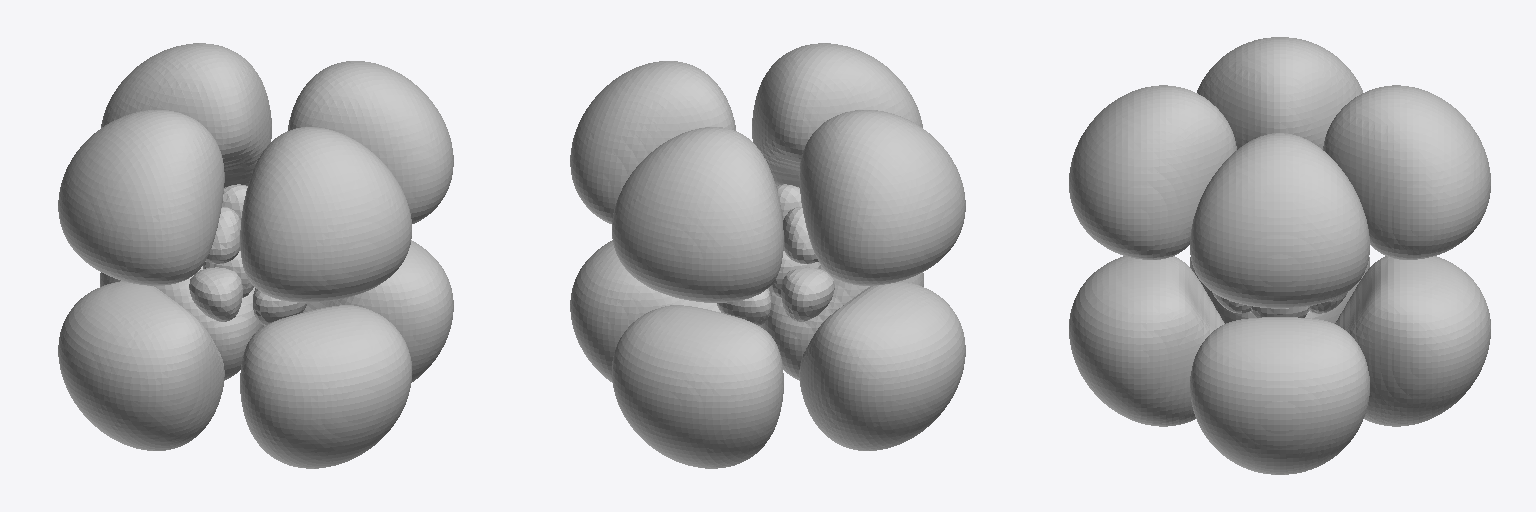
Rendered from orb_n=5_ l=3 _m=2.obj.
3 renders of one model, left to right at view 1: azimuth 30°, elevation 25°; view 2: azimuth 150°, elevation 25°; view 3: azimuth 270°, elevation 25°, orthographic.
Parts seen in each view (by area): view 1: orb_n=5__l=3__m=2; view 2: orb_n=5__l=3__m=2; view 3: orb_n=5__l=3__m=2.
Part boxes in pixels (x1,y1,x2,y2): orb_n=5__l=3__m=2: (58,43,453,468); orb_n=5__l=3__m=2: (570,43,965,468); orb_n=5__l=3__m=2: (1069,37,1490,474).
Bounding box in the file's own units: 97.9 × 83.77 × 97.9.